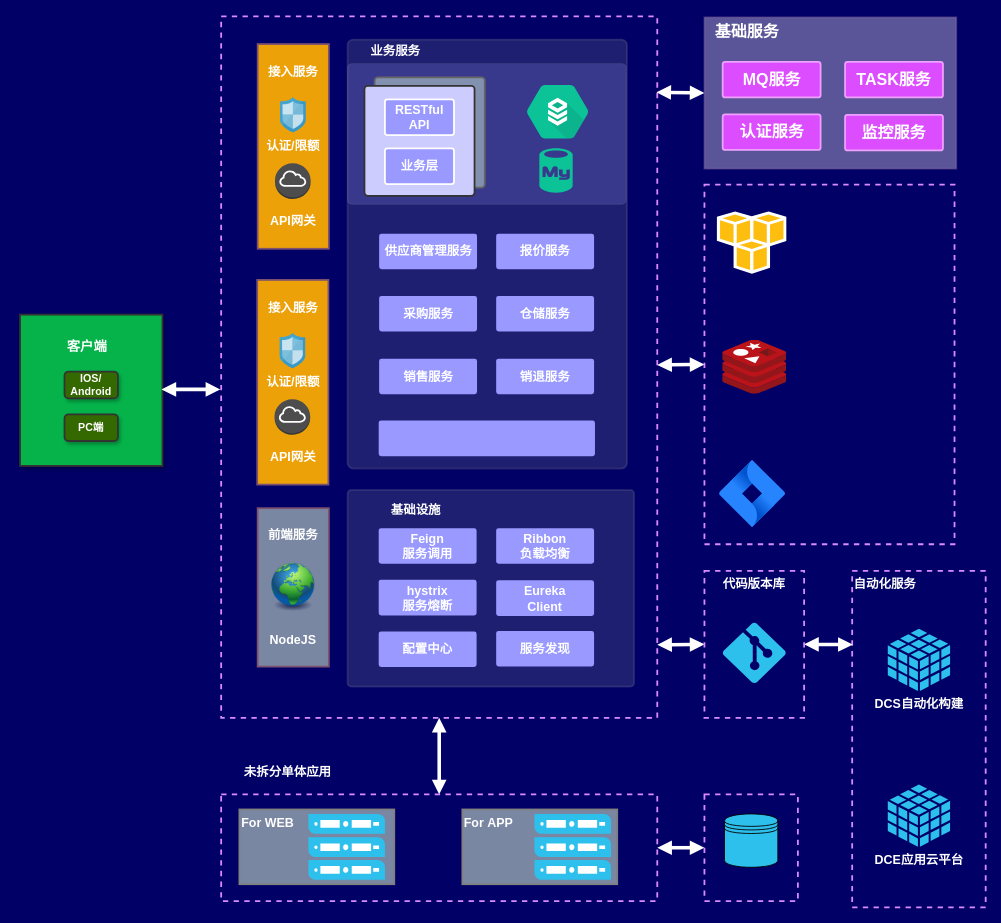
Image size: 1001x923. Some labels were removed from this diagram. Here are the shapes that lost their labels. From the top down, the centre of each, then its label:
the point at 751,242: 关系型数据库MySQL集群
the point at 754,367: 缓存Redis集群
the point at 486,438: 询比价服务
the point at 752,493: 非关系型数据库集群
the point at 753,652: Git
the point at 751,840: Oracle
